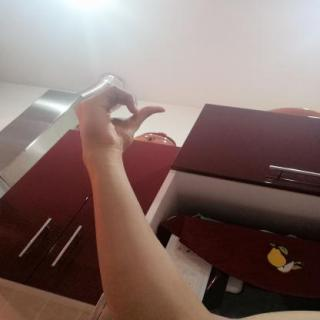WAW: (65, 78, 173, 164)
